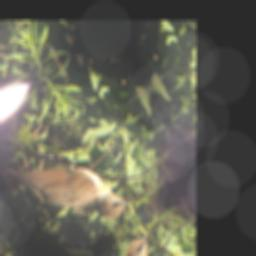Cuckoo: (0, 99, 136, 256)
